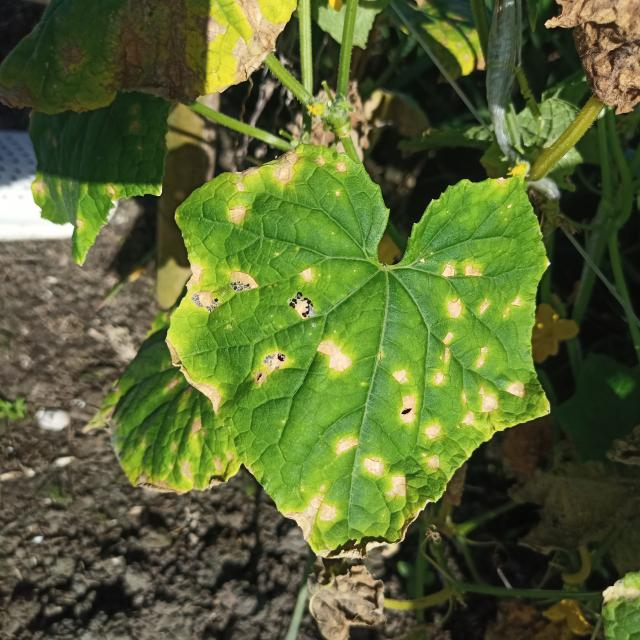disease_cucumber: (173, 149, 539, 533)
